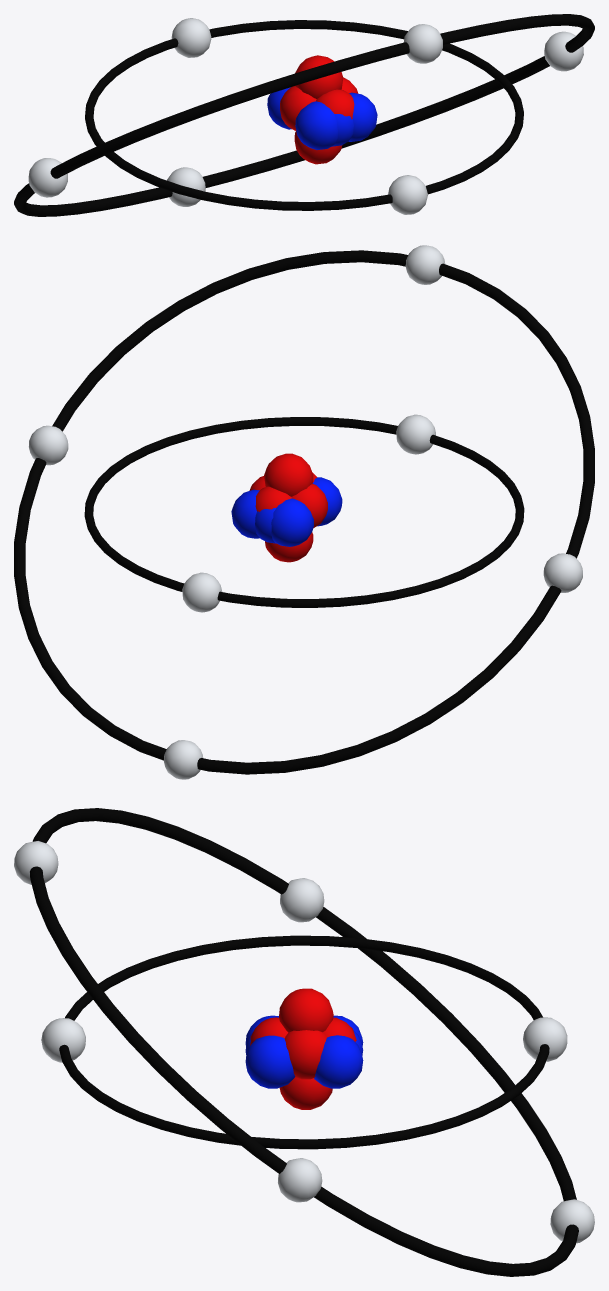
Rendered from 6 Carbono.fbx.
3 renders of one model, top to bottom at view 1: azimuth 30°, elevation 25°; view 2: azimuth 150°, elevation 25°; view 3: azimuth 270°, elevation 25°, orthographic. The views are drawn at different scales.
Visible parts, largest first — view 1: Orbita.002, Orbita.001, Sphere.001, Electron.004, Electron.001, Electron.002, Electron.005, Electron.006, Sphere.007, Sphere, Electron.003, Sphere.004 (+4 smaller); view 2: Orbita.002, Orbita.001, Sphere.009, Sphere.007, Electron.001, Electron.004, Electron.006, Electron.005, Electron.003, Electron.002, Sphere.008, Sphere.004 (+2 smaller); view 3: Orbita.002, Orbita.001, Sphere, Sphere.008, Sphere.007, Sphere.003, Electron.006, Electron.005, Electron.004, Electron.001, Electron.003, Electron.002 (+1 smaller).
Boxes of the visible parts, x1,y1,x2,y2 form: Orbita.002: [14, 14, 594, 216]; Orbita.001: [85, 20, 523, 210]; Sphere.001: [295, 101, 337, 149]; Electron.004: [388, 175, 427, 214]; Electron.001: [171, 18, 211, 57]; Electron.002: [403, 24, 442, 63]; Electron.005: [28, 158, 67, 197]; Electron.006: [544, 31, 583, 71]; Sphere.007: [295, 55, 343, 98]; Sphere: [348, 92, 377, 141]; Electron.003: [167, 167, 205, 206]; Sphere.004: [280, 86, 316, 130]; Orbita.002: [14, 250, 594, 774]; Orbita.001: [84, 417, 524, 607]; Sphere.009: [271, 498, 313, 546]; Sphere.007: [264, 453, 313, 496]; Electron.001: [182, 572, 222, 612]; Electron.004: [396, 414, 435, 454]; Electron.006: [28, 425, 68, 465]; Electron.005: [543, 553, 582, 592]; Electron.003: [164, 740, 203, 779]; Electron.002: [405, 245, 445, 284]; Sphere.008: [231, 489, 259, 538]; Sphere.004: [291, 484, 327, 528]; Orbita.002: [30, 808, 578, 1276]; Orbita.001: [59, 935, 549, 1149]; Sphere: [245, 1035, 295, 1088]; Sphere.008: [314, 1035, 363, 1088]; Sphere.007: [279, 988, 333, 1032]; Sphere.003: [284, 1030, 326, 1079]; Electron.006: [278, 1158, 322, 1202]; Electron.005: [280, 878, 324, 922]; Electron.004: [41, 1018, 85, 1062]; Electron.001: [523, 1017, 567, 1061]; Electron.003: [550, 1199, 594, 1243]; Electron.002: [14, 841, 58, 884].
Bounding box in the file's own units: 8.78 × 10.74 × 6.63.
